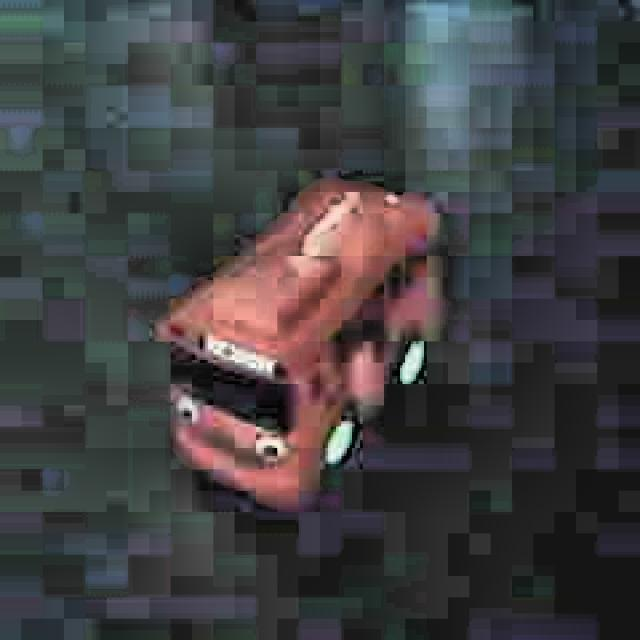bus: (150, 176, 440, 512)
